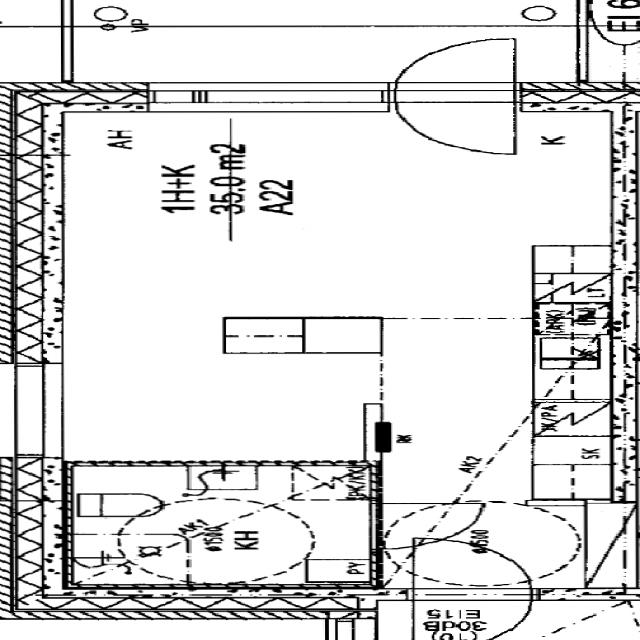door: (395, 82, 513, 164), (395, 31, 513, 112), (411, 537, 531, 600), (411, 588, 530, 640), (370, 502, 485, 548)
